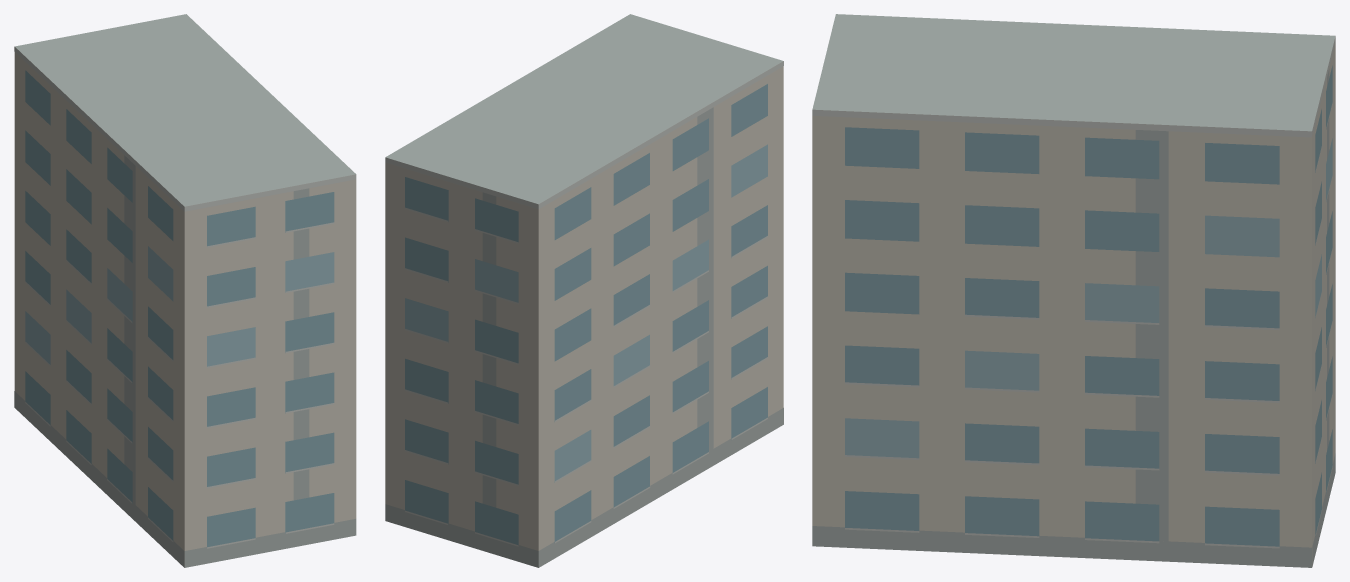
Rendered from survey-upis-32924633.glb.
3 views of the same model, side by side, from view 1: azimuth 30°, elevation 25°; view 2: azimuth 150°, elevation 25°; view 3: azimuth 270°, elevation 25° (orthographic). The views are drawn at different scales.
Visible parts, largest first — view 1: survey-upis-32924633.tmp; view 2: survey-upis-32924633.tmp; view 3: survey-upis-32924633.tmp.
Part boxes in pixels (x1=…): survey-upis-32924633.tmp: x1=14, y1=14, x2=356, y2=567; survey-upis-32924633.tmp: x1=385, y1=14, x2=783, y2=567; survey-upis-32924633.tmp: x1=812, y1=14, x2=1335, y2=567.
Bounding box in the file's own units: 9.98 × 17.3 × 18.8.
